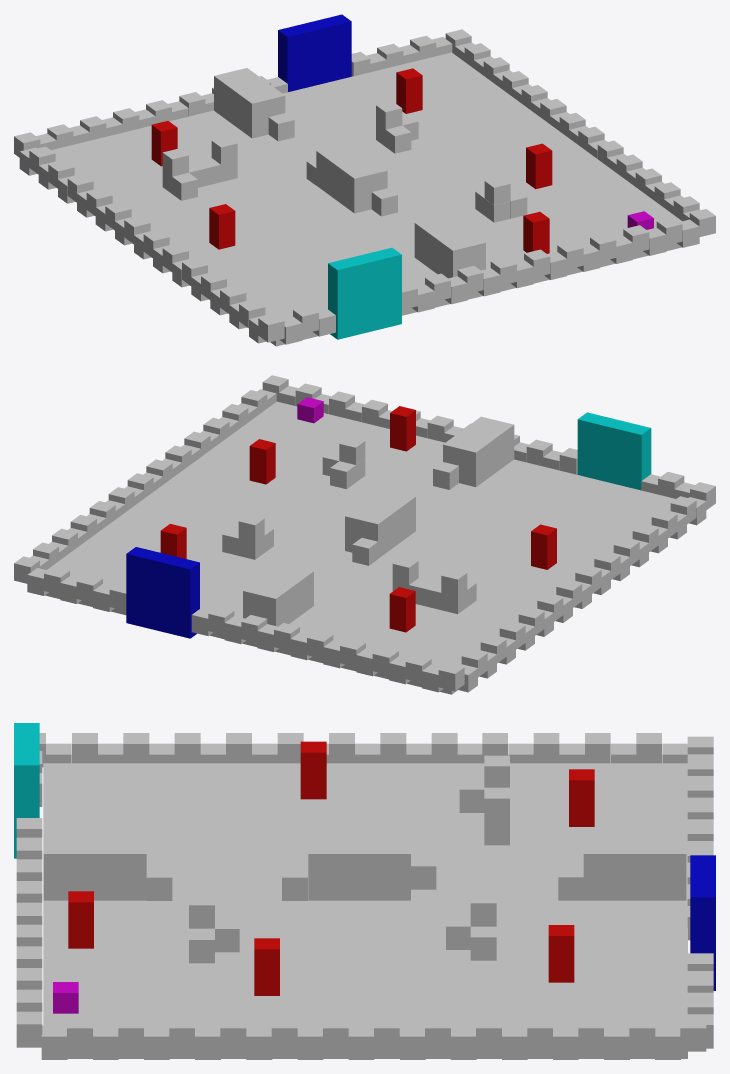
Rendered from Level1_b5.fbx.
The picture shows the model from 3 angles, top to bottom: view 1: azimuth 30°, elevation 25°; view 2: azimuth 150°, elevation 25°; view 3: azimuth 270°, elevation 25°; orthographic projection. The views are drawn at different scales.
Parts seen in each view (by area): view 1: pCube138, pCube148, pCube149, pCube151, pCube152, pCube153, pCube155, pCube150; view 2: pCube138, pCube149, pCube148, pCube152, pCube150, pCube155, pCube151, pCube153, pCube154; view 3: pCube138, pCube149, pCube148, pCube151, pCube153, pCube150, pCube152, pCube155, pCube154.
Part boxes in pixels (bbox=[...]): pCube138: bbox=[14, 29, 715, 346]; pCube148: bbox=[328, 247, 401, 339]; pCube149: bbox=[278, 14, 351, 91]; pCube151: bbox=[209, 204, 235, 249]; pCube152: bbox=[526, 143, 552, 189]; pCube153: bbox=[396, 68, 422, 113]; pCube155: bbox=[523, 211, 549, 253]; pCube150: bbox=[151, 121, 177, 166]; pCube138: bbox=[14, 375, 715, 694]; pCube149: bbox=[126, 547, 199, 638]; pCube148: bbox=[577, 412, 651, 490]; pCube152: bbox=[249, 439, 275, 484]; pCube150: bbox=[389, 587, 415, 632]; pCube155: bbox=[390, 406, 415, 451]; pCube151: bbox=[531, 524, 556, 569]; pCube153: bbox=[160, 523, 186, 558]; pCube154: bbox=[297, 397, 323, 423]; pCube138: bbox=[16, 733, 713, 1059]; pCube149: bbox=[690, 855, 715, 990]; pCube148: bbox=[14, 723, 39, 858]; pCube151: bbox=[300, 741, 326, 799]; pCube153: bbox=[548, 925, 574, 982]; pCube150: bbox=[569, 769, 594, 826]; pCube152: bbox=[254, 938, 279, 995]; pCube155: bbox=[68, 891, 93, 948]; pCube154: bbox=[53, 982, 78, 1013].
Size of the model in its own units: 10.65 by 1.63 by 10.71.
